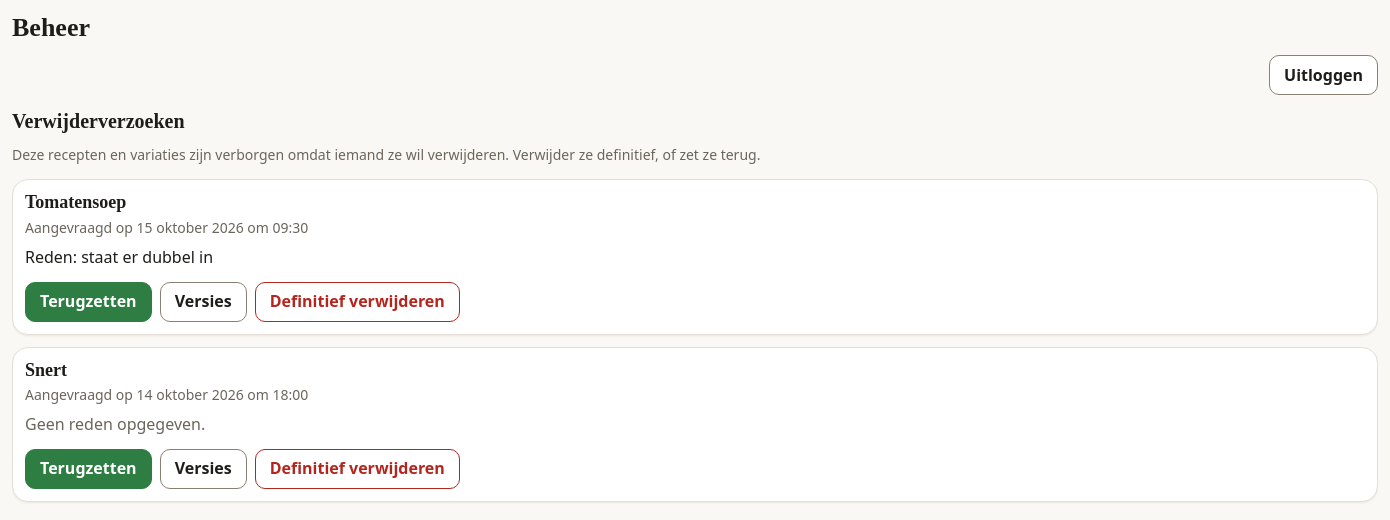
Scenario: AdminView › zet een recept terug: weg uit de lijst, met bevestiging
Click the button with class "restore" below "Tomatensoep" at coordinates (88, 302), box [25,282,152,322]
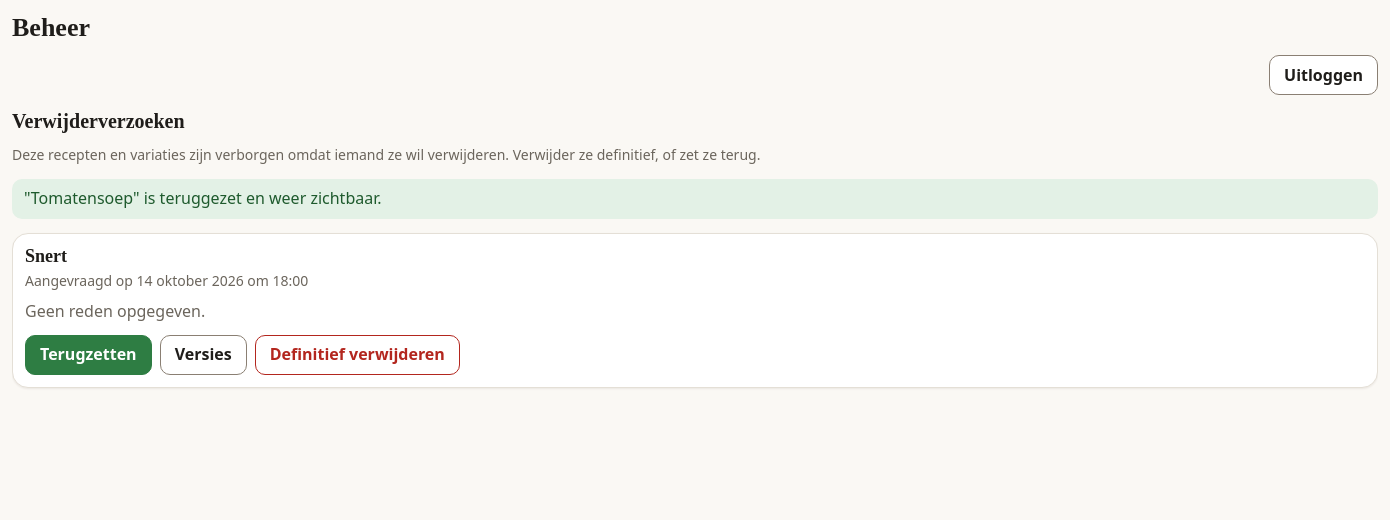
Expected: the message "\"Tomatensoep\" is teruggezet en weer zichtbaar." reads "\"Tomatensoep\" is teruggezet en weer zichtbaar.", [24,188,382,210]
